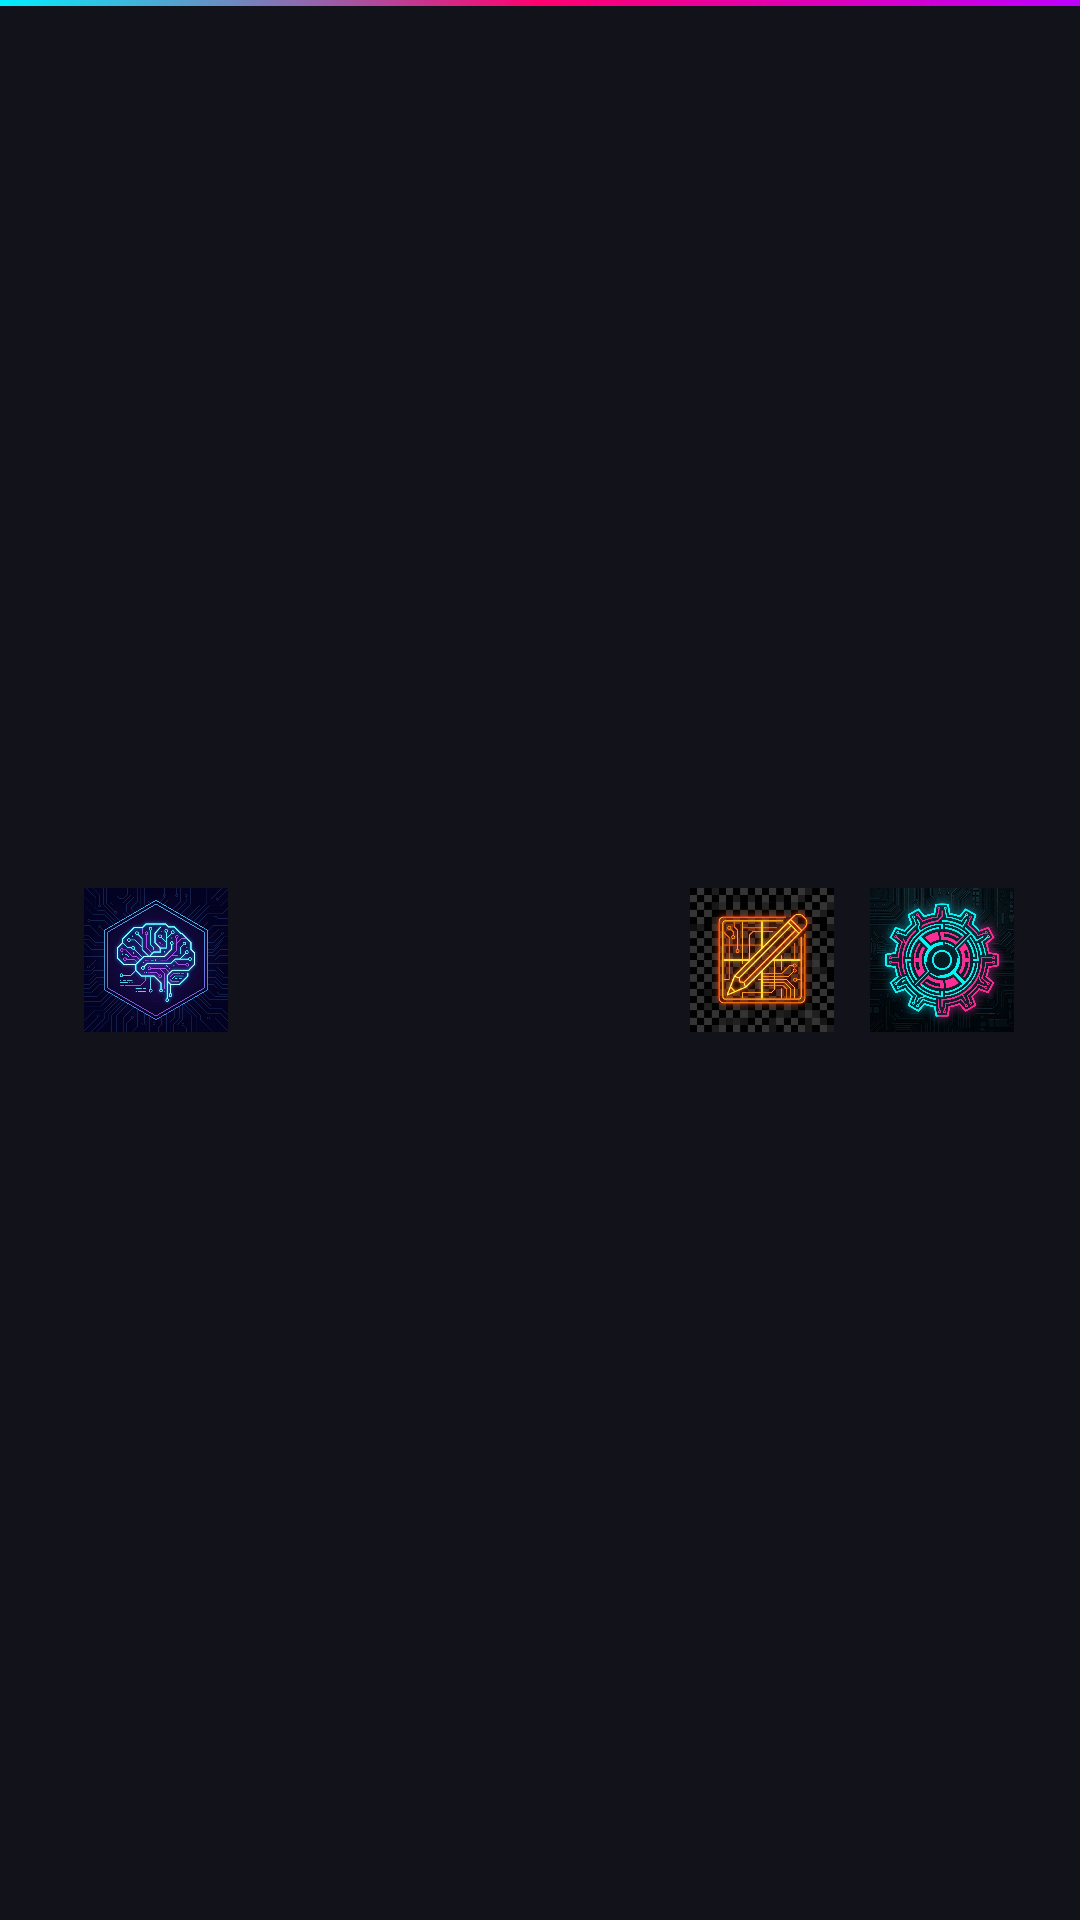

Icons on this 1080*1920 Android screen, each with the point to tap as (x=x, y=y):
Edit Layout: (x=762, y=960)
Neural Hub: (x=156, y=960)
V-Launcher Settings: (x=942, y=960)
